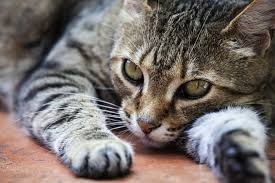Gato: (101, 1, 272, 164)
